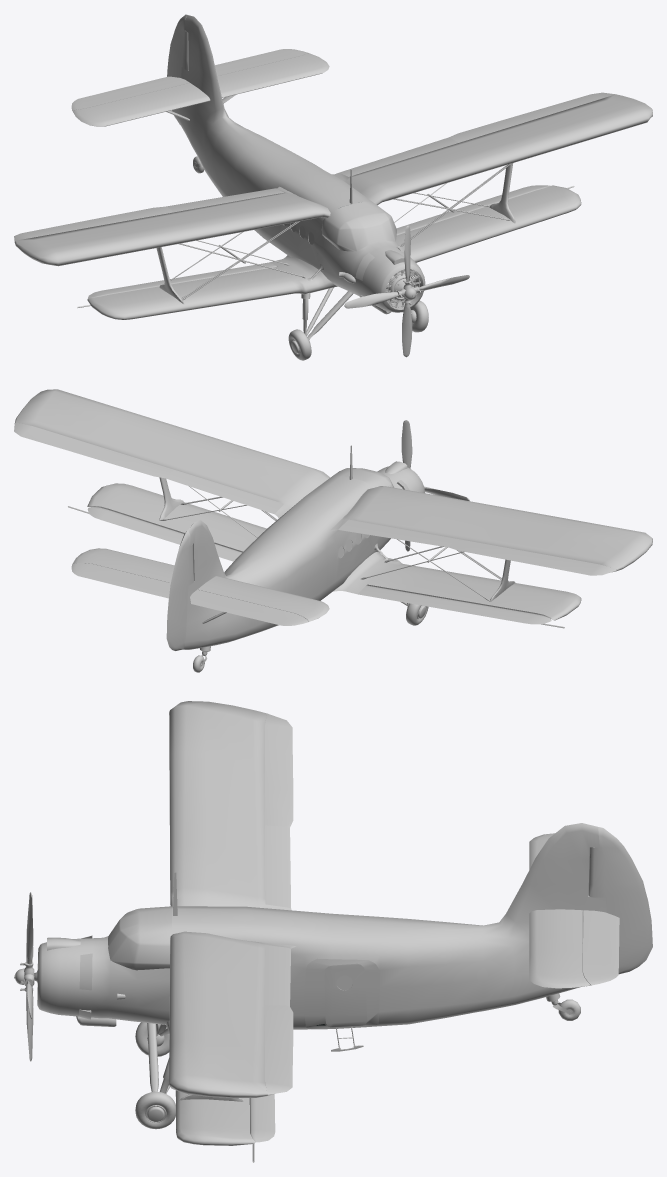
3 renders of one model, top to bottom at view 1: azimuth 30°, elevation 25°; view 2: azimuth 150°, elevation 25°; view 3: azimuth 270°, elevation 25°, orthographic. The views are drawn at different scales.
Visible parts, largest first — view 1: An2; view 2: An2; view 3: An2.
Boxes of the visible parts, bbox=[...] form: An2: bbox=[14, 14, 652, 360]; An2: bbox=[14, 389, 652, 672]; An2: bbox=[14, 701, 652, 1162].
Bounding box in the file's own units: 18.2 × 5.87 × 12.63.
